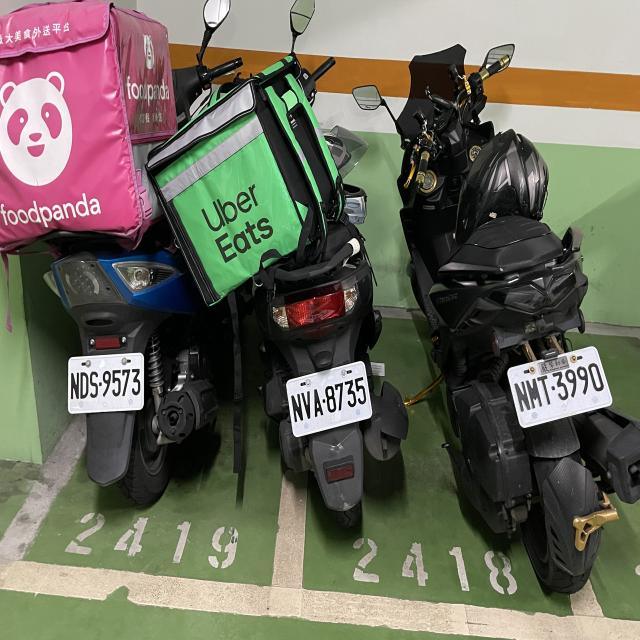license-plate: (508, 345, 614, 428), (286, 360, 373, 438), (67, 352, 145, 413)
